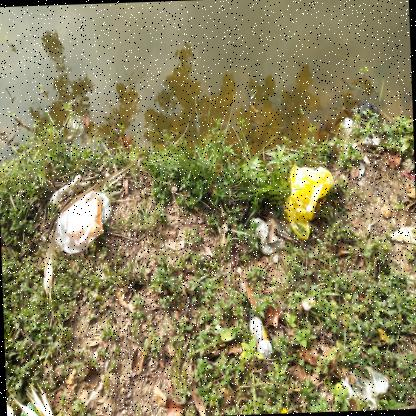Clear plastic bottle: (246, 303, 272, 358)
Drink can: (26, 402, 41, 416)
Paper bag: (67, 195, 104, 247)
Plastic film: (341, 366, 389, 410), (254, 218, 285, 254), (339, 117, 353, 141), (362, 135, 380, 145)
Plastic lid: (67, 115, 86, 137)
Single-use carrier bag: (283, 163, 333, 241), (55, 191, 111, 254)
